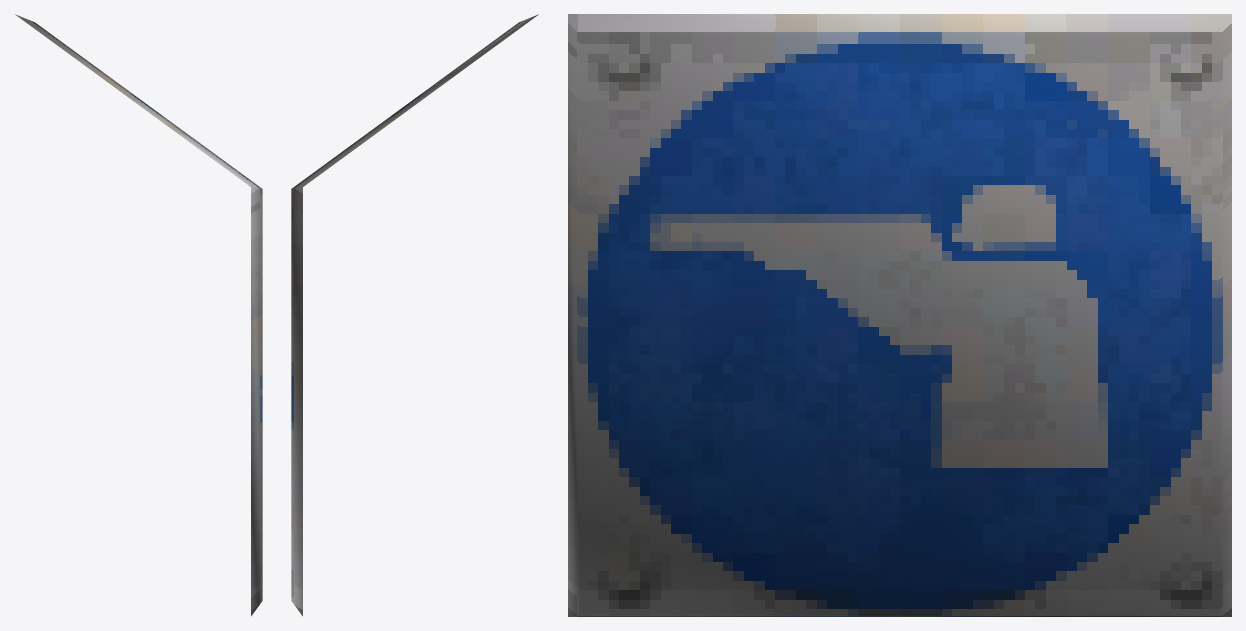
File: Sign_Firing01.glb
3 views of the same model, side by side, from view 1: azimuth 30°, elevation 25°; view 2: azimuth 150°, elevation 25°; view 3: azimuth 270°, elevation 25° (orthographic). The views are drawn at different scales.
Visible parts, largest first — view 1: SIGN_FIRING01; view 2: SIGN_FIRING01; view 3: SIGN_FIRING01.
Boxes of the visible parts, x1,y1,x2,y2 form: SIGN_FIRING01: [15, 14, 262, 616]; SIGN_FIRING01: [291, 14, 538, 616]; SIGN_FIRING01: [568, 14, 1231, 616].
Size of the model in its own units: 0.017 by 0.429 by 0.428.
Materials: 1 (1 with a texture image).
